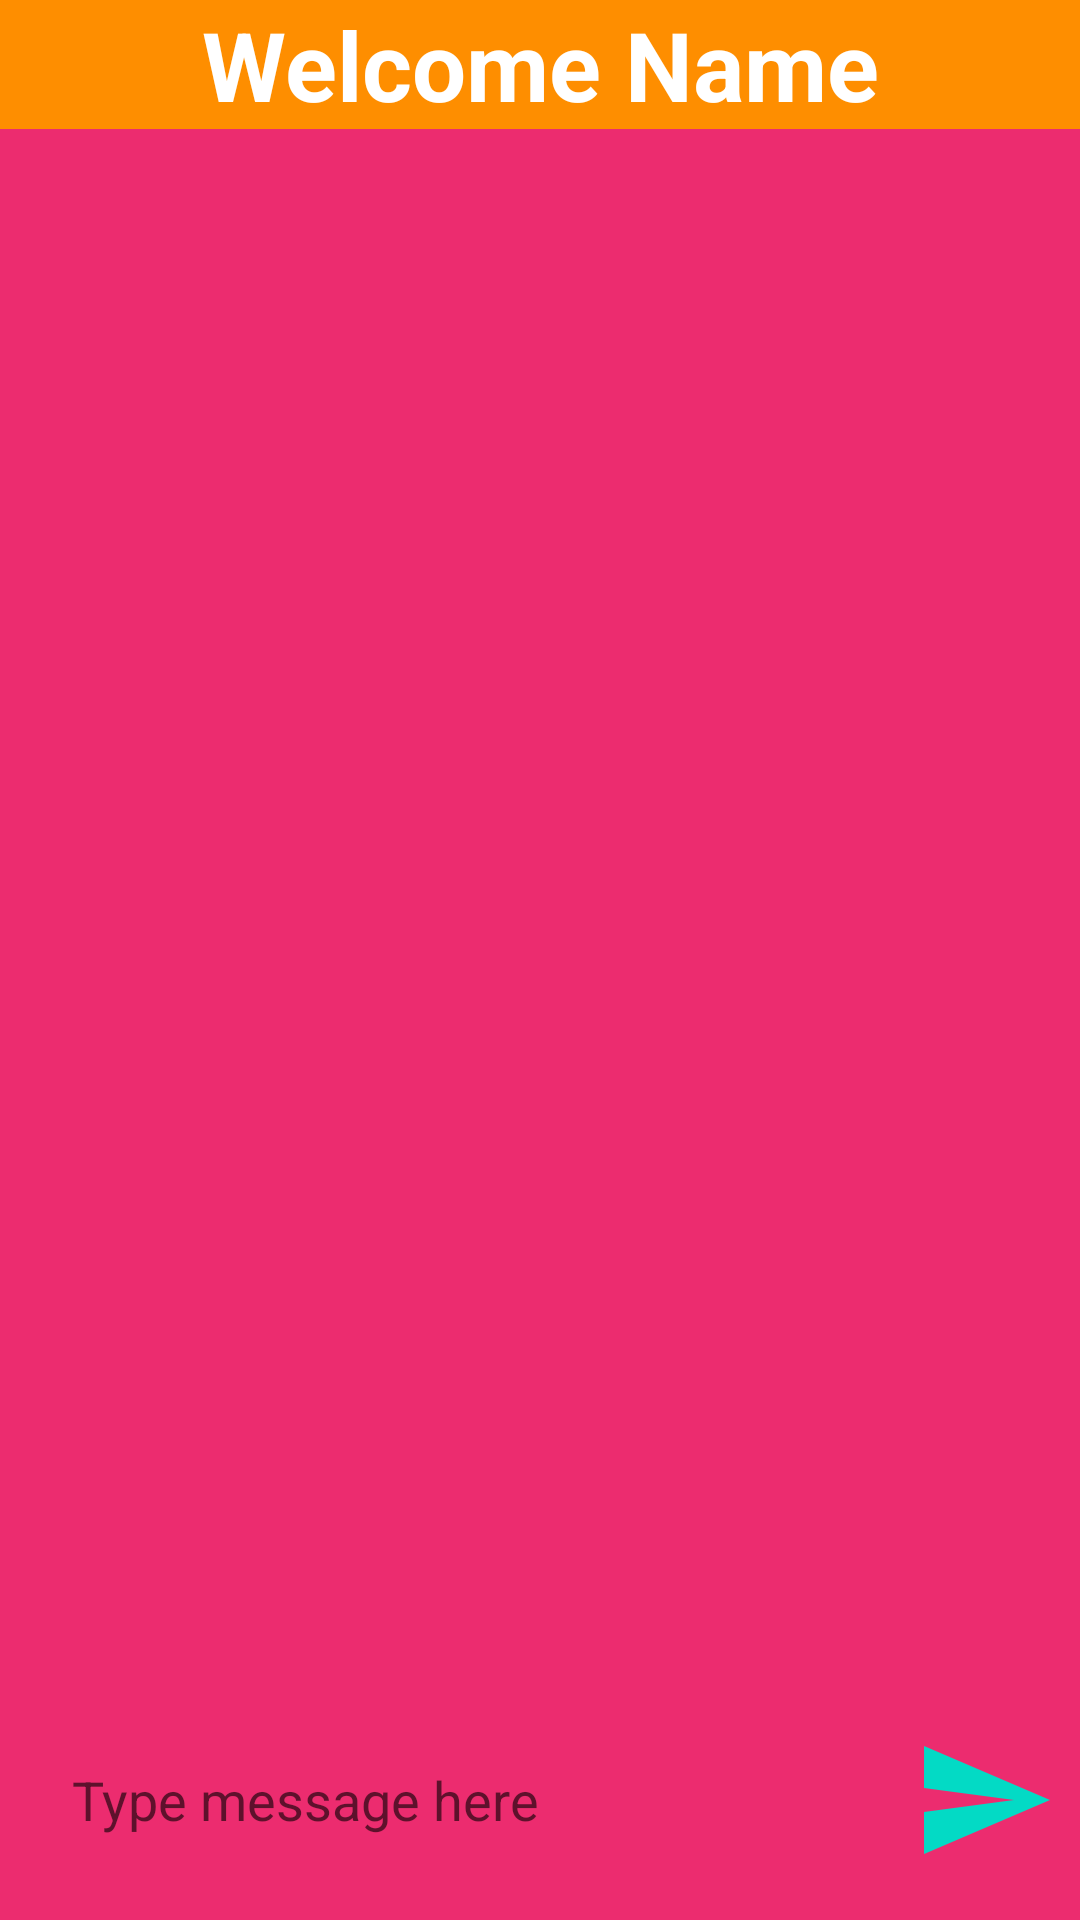

Named icons in this screenshot (1080*1920) and their centers, [x,y]:
send: [987,1800]
